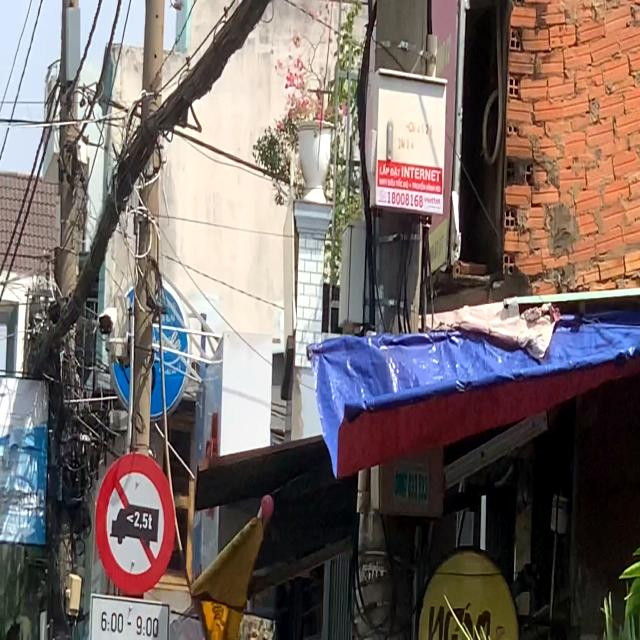P.106b: (94, 445, 176, 598)
